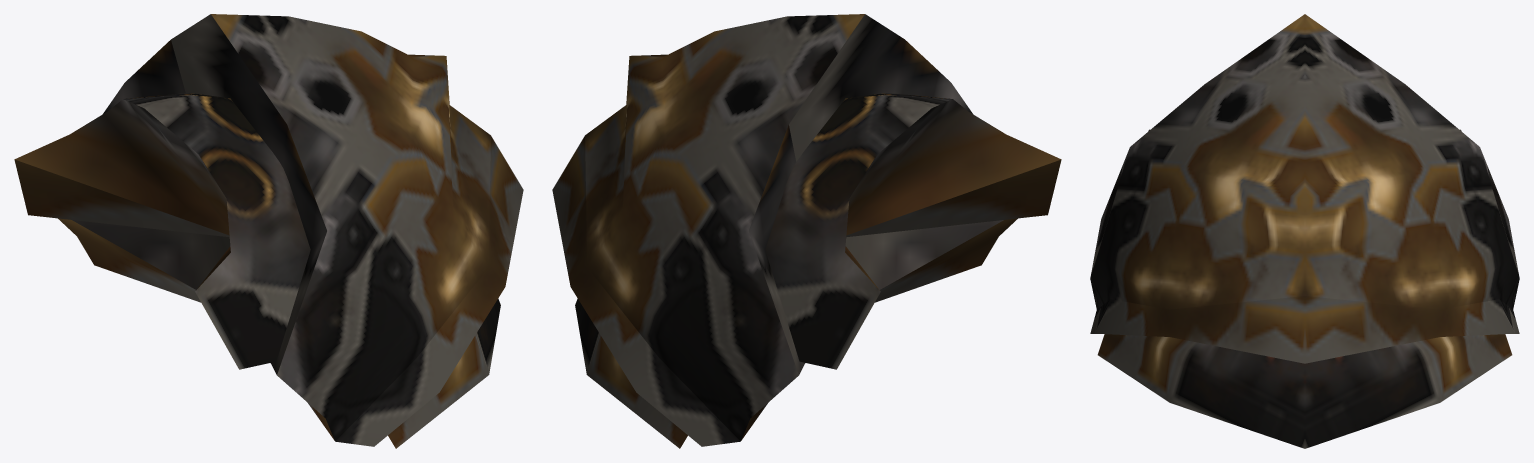
Rendered from plate_shoulder_drop.fbx.
3 renders of one model, left to right at view 1: azimuth 30°, elevation 25°; view 2: azimuth 150°, elevation 25°; view 3: azimuth 270°, elevation 25°, orthographic. The views are drawn at different scales.
Visible parts, largest first — view 1: Plate_Set/shoulders; view 2: Plate_Set/shoulders; view 3: Plate_Set/shoulders.
Boxes of the visible parts, x1=… form: Plate_Set/shoulders: x1=14, y1=14, x2=523, y2=448; Plate_Set/shoulders: x1=552, y1=14, x2=1061, y2=448; Plate_Set/shoulders: x1=1090, y1=14, x2=1519, y2=448.
Bounding box in the file's own units: 0.668 × 0.5531 × 0.6866.
